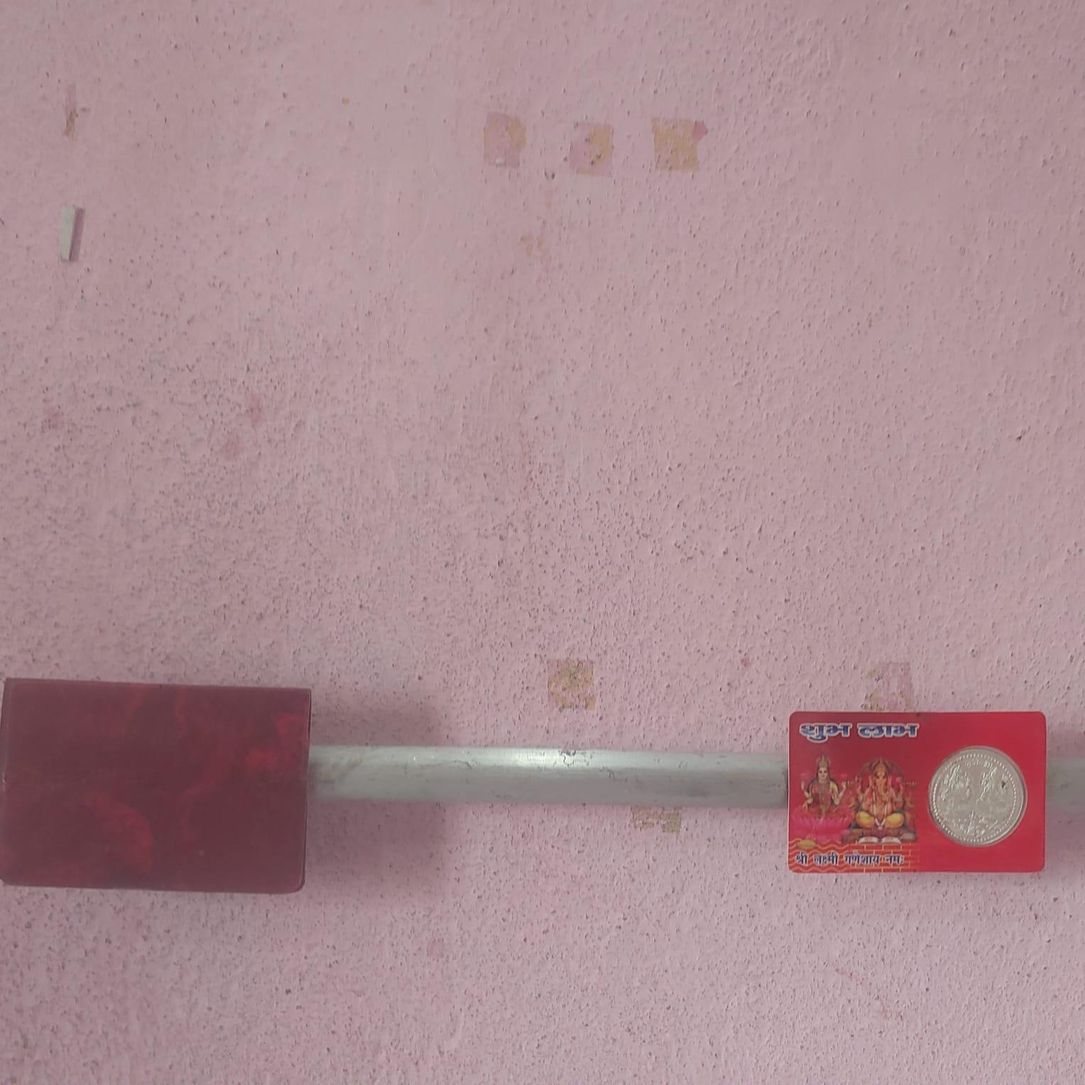blessing_card: (788, 702, 1056, 867)
wallet: (0, 673, 315, 900)
